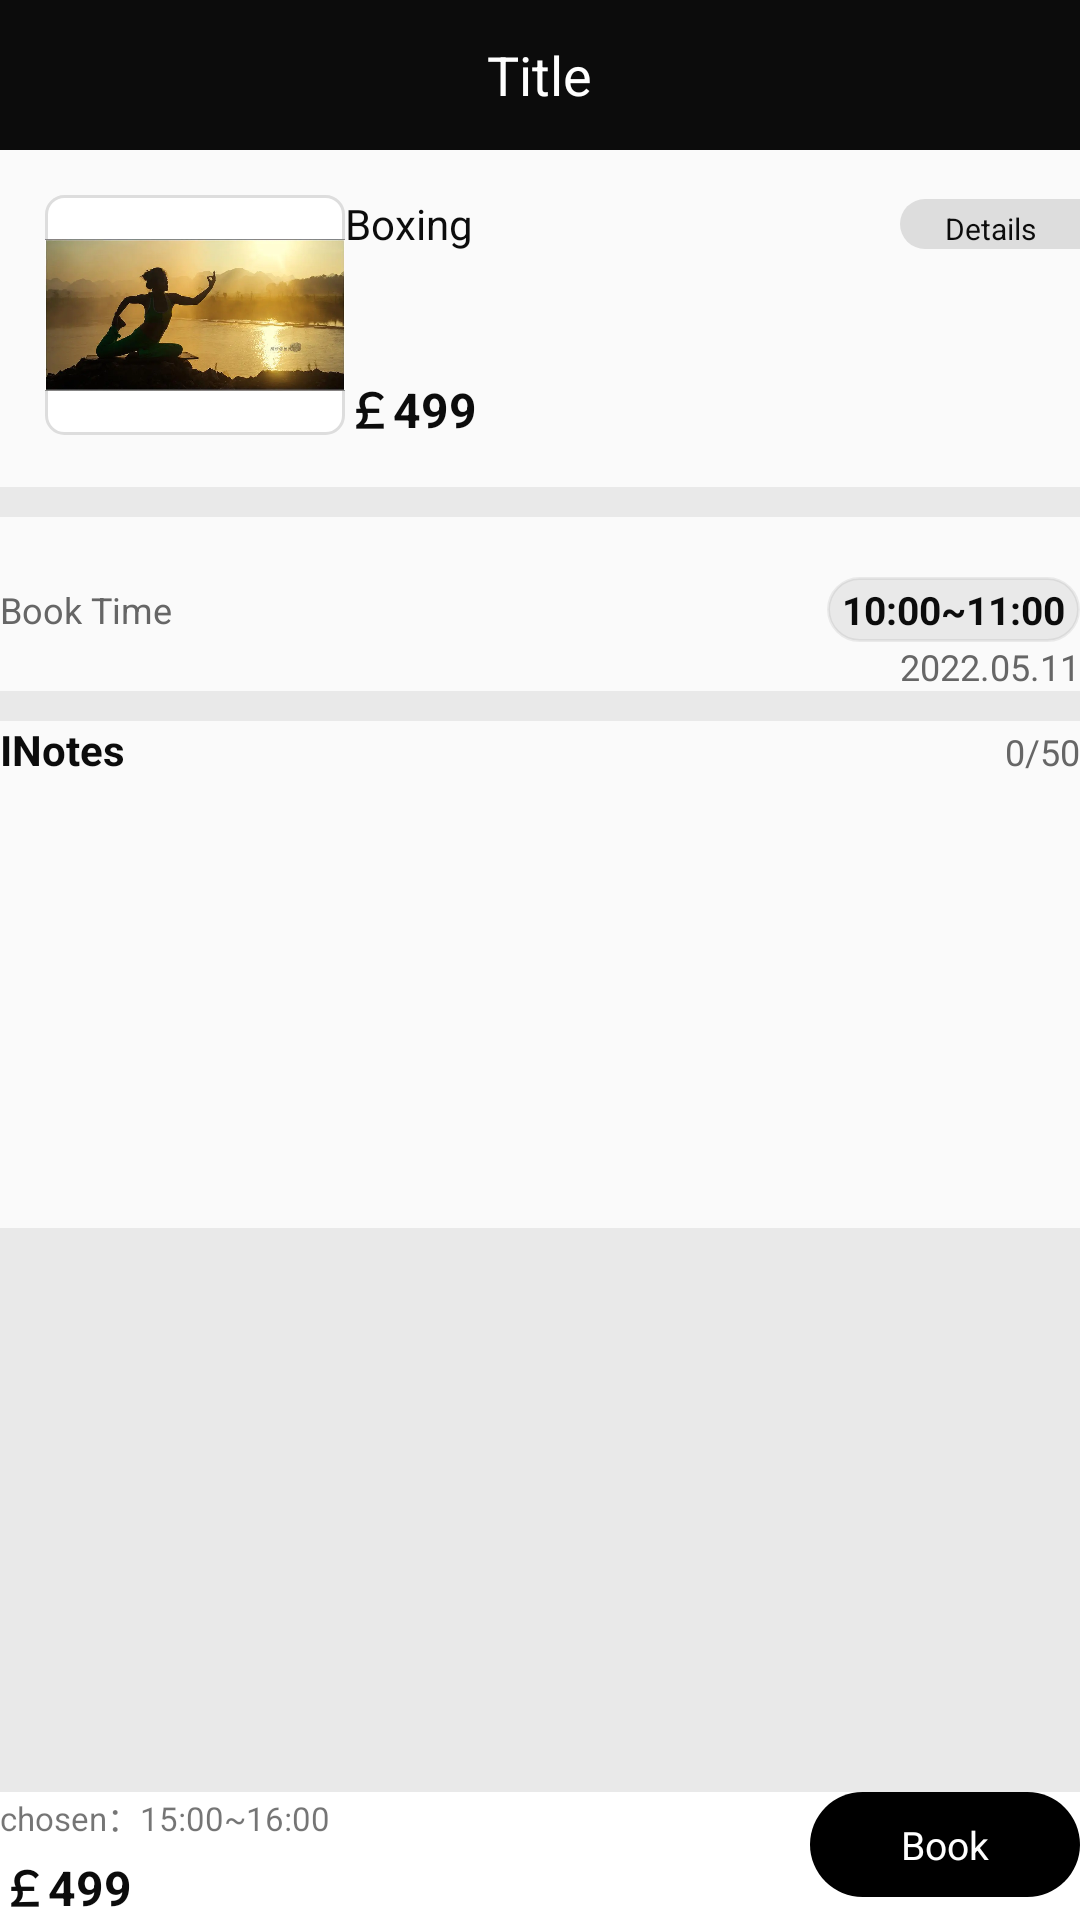

Named icons in this screenshot (1080*1920) and their bounding boxes, (x1, y1, x2, y2):
yujia: (45, 195, 345, 435)
